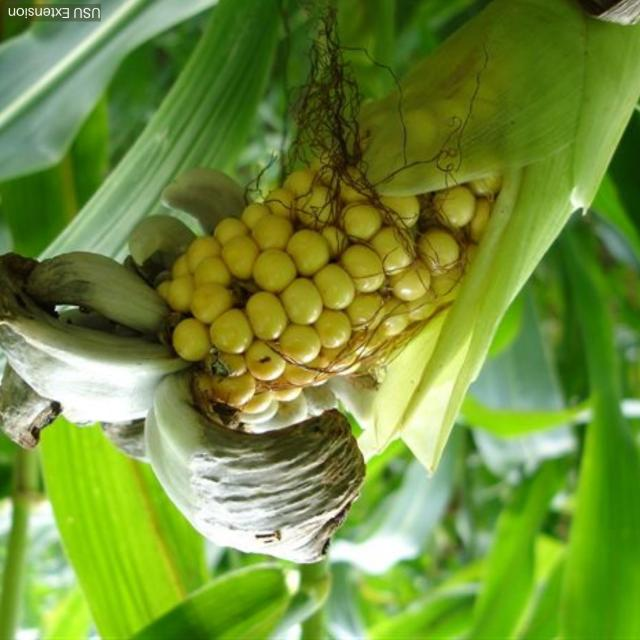Leaf_Scald: (0, 108, 483, 600)
